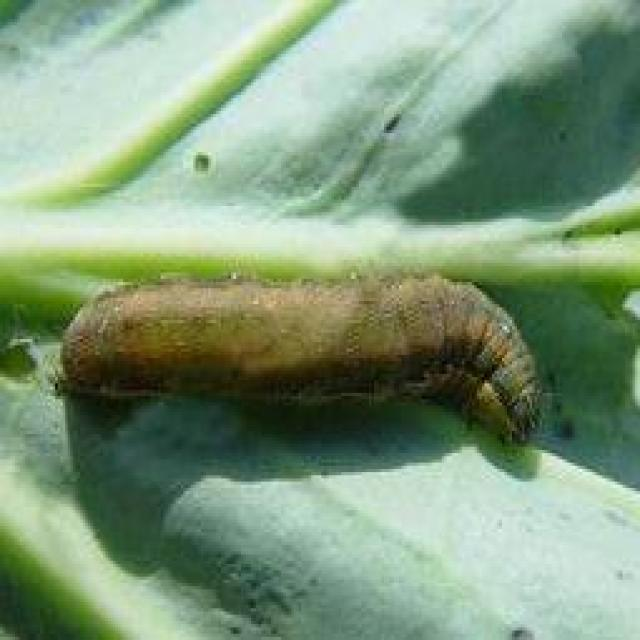BeetArmyWorm-Larva-: (46, 242, 551, 455)
